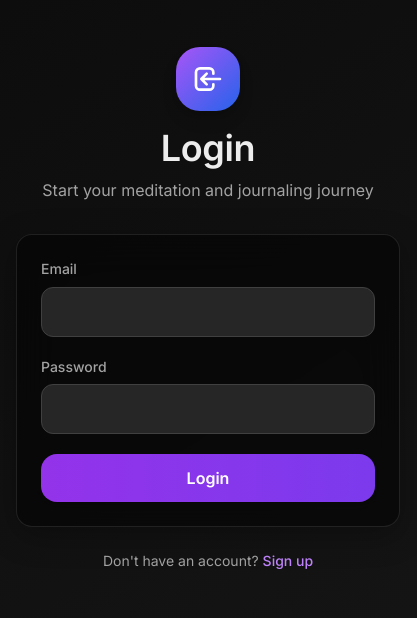
Scenario: AuthForm › ログインモード › ログイン失敗時にエラーメッセージが表示される
The image size is (417, 618).
Type "test@example.com" into the field labelled "Email" at x=208, y=312, box [41, 287, 375, 337]
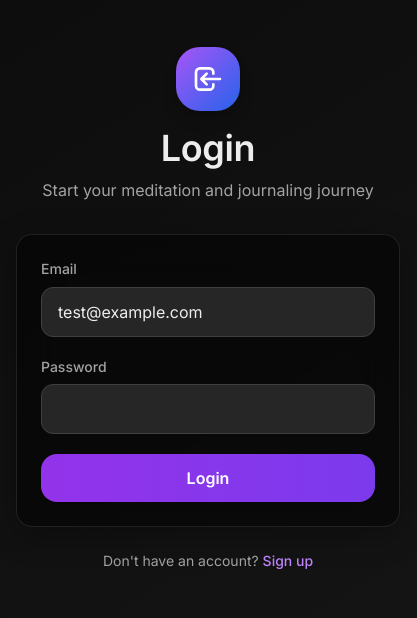
Type "password123" into the password field labelled "Password" at x=208, y=409, box [41, 384, 375, 434]
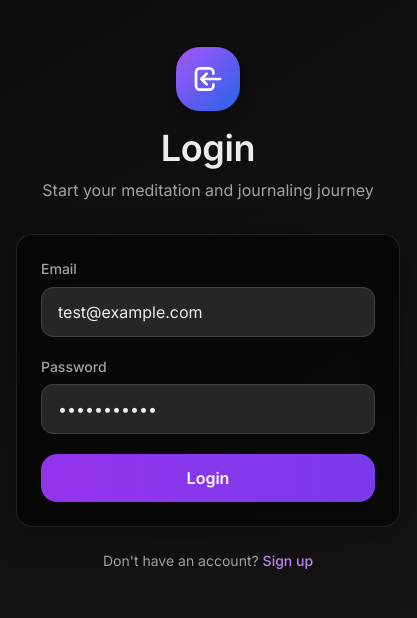
Click the button "Login" at x=208, y=478, box [41, 454, 375, 502]
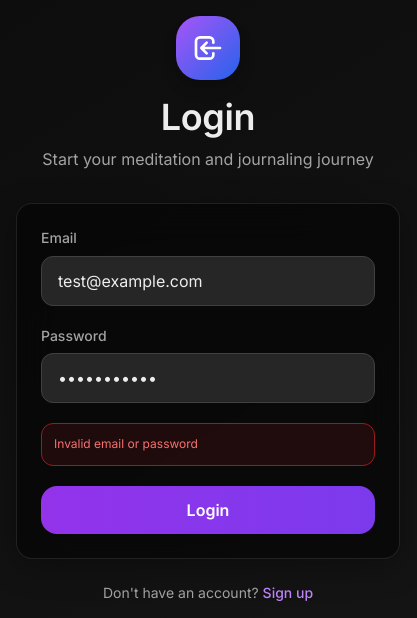
expect the text "Invalid email or password" is shown: met, box [54, 436, 198, 451]
